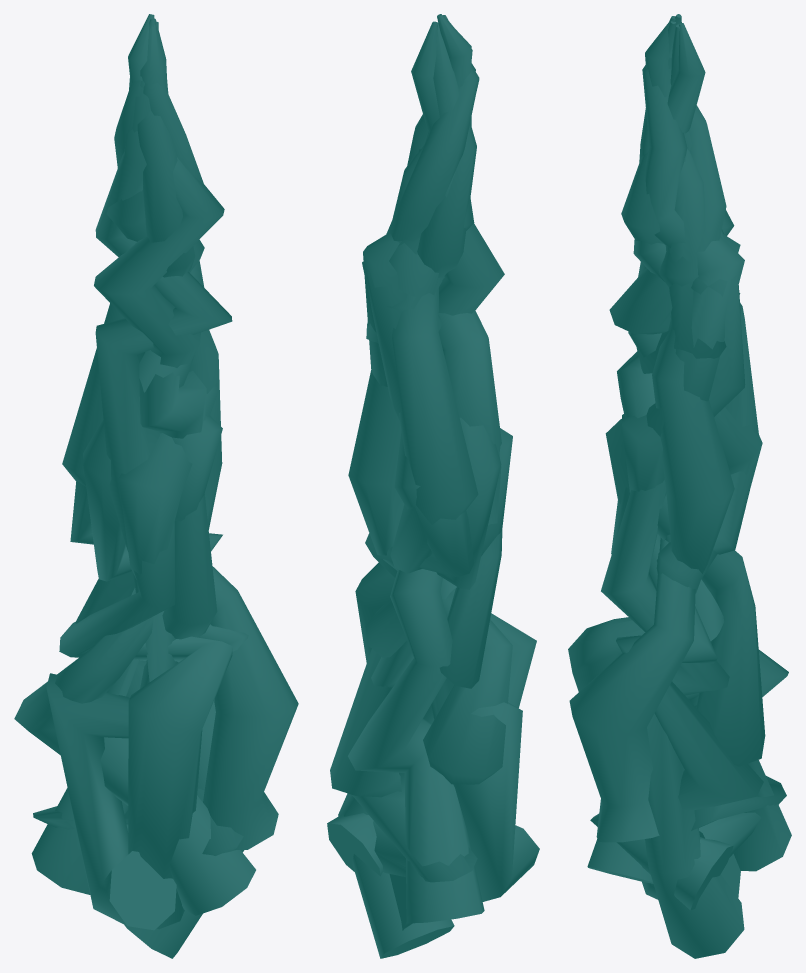
File: vortex_spike.fbx
3 views of the same model, side by side, from view 1: azimuth 30°, elevation 25°; view 2: azimuth 150°, elevation 25°; view 3: azimuth 270°, elevation 25° (orthographic). The views are drawn at different scales.
Visible parts, largest first — view 1: Spike; view 2: Spike; view 3: Spike.
Part boxes in pixels (x1=…): Spike: x1=14, y1=14, x2=298, y2=958; Spike: x1=327, y1=14, x2=539, y2=958; Spike: x1=568, y1=14, x2=791, y2=958.
Bounding box in the file's own units: 119 × 548 × 120.
